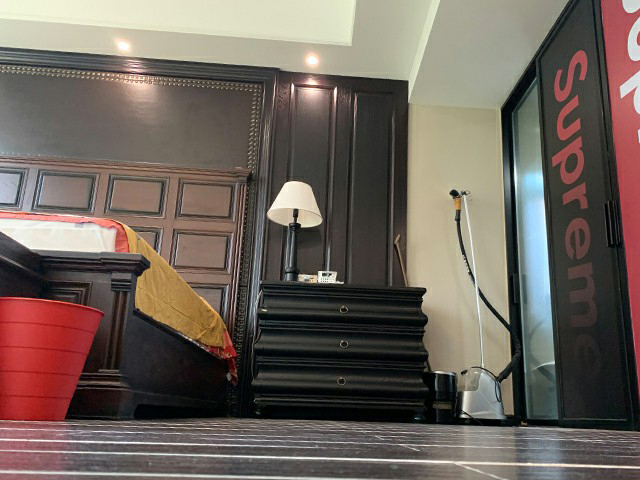bed: (1, 209, 238, 421)
cabinet: (251, 279, 430, 424)
trash can: (1, 295, 105, 423)
